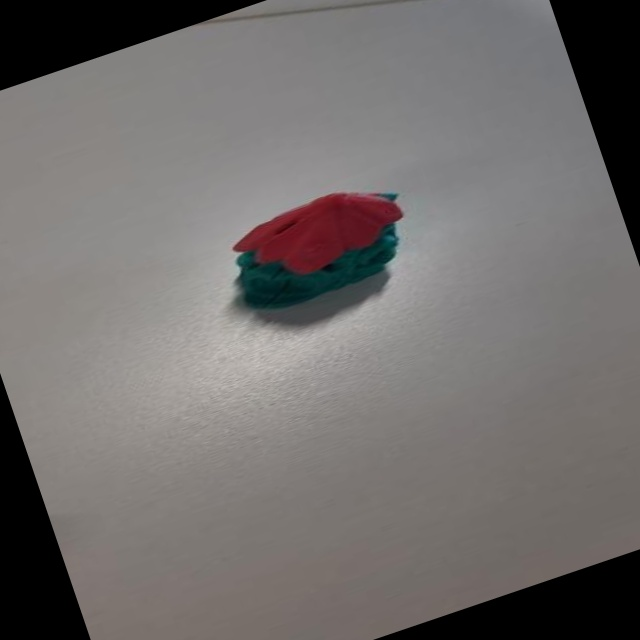House: (197, 167, 425, 334)
